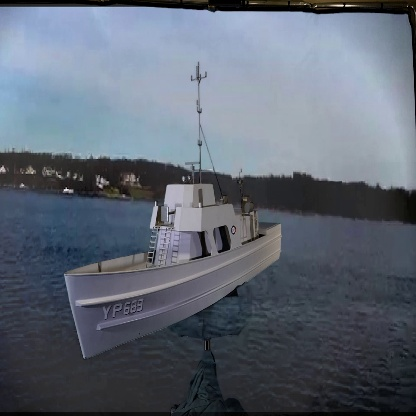YP689: (64, 65, 282, 362)
